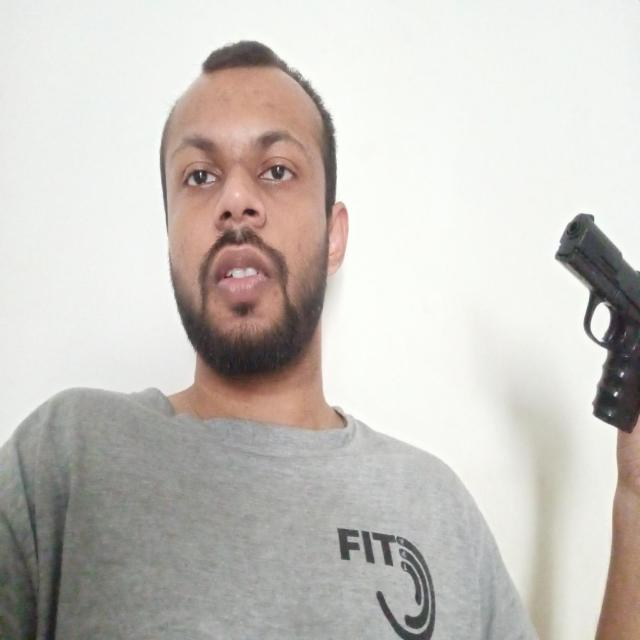handgun: (553, 209, 640, 436)
